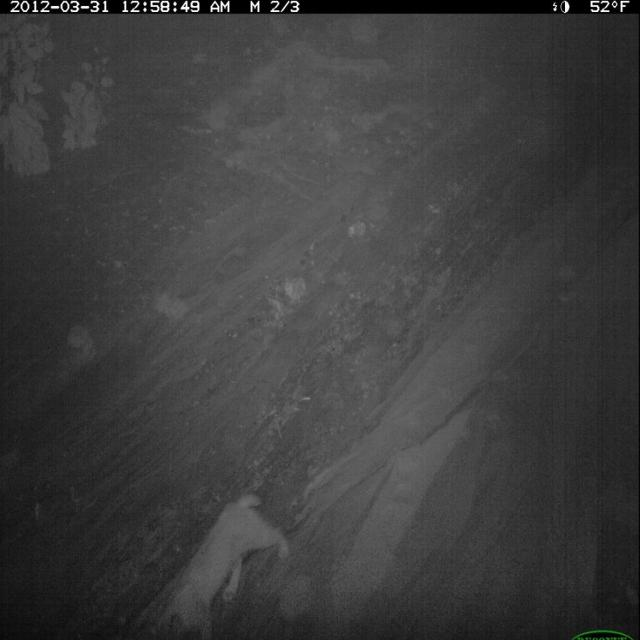bobcat: (147, 491, 292, 640)
